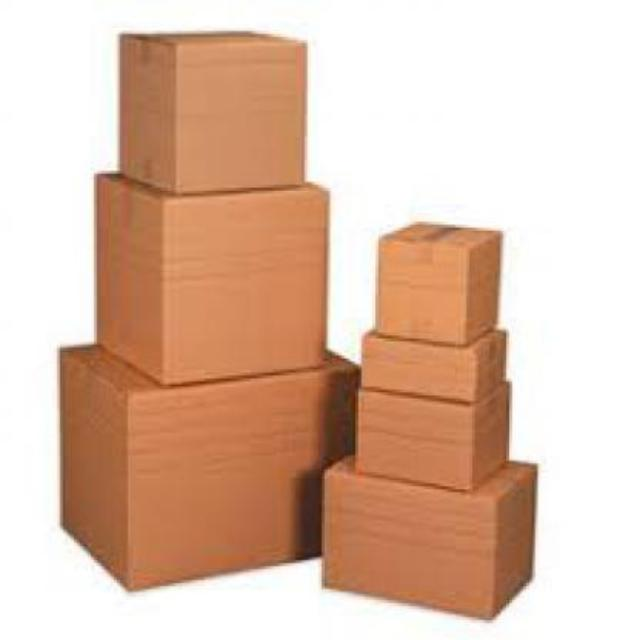cardboard_box: (77, 158, 530, 494), (60, 330, 350, 594), (321, 462, 567, 612), (114, 28, 304, 198), (384, 202, 496, 342), (348, 328, 522, 390)
